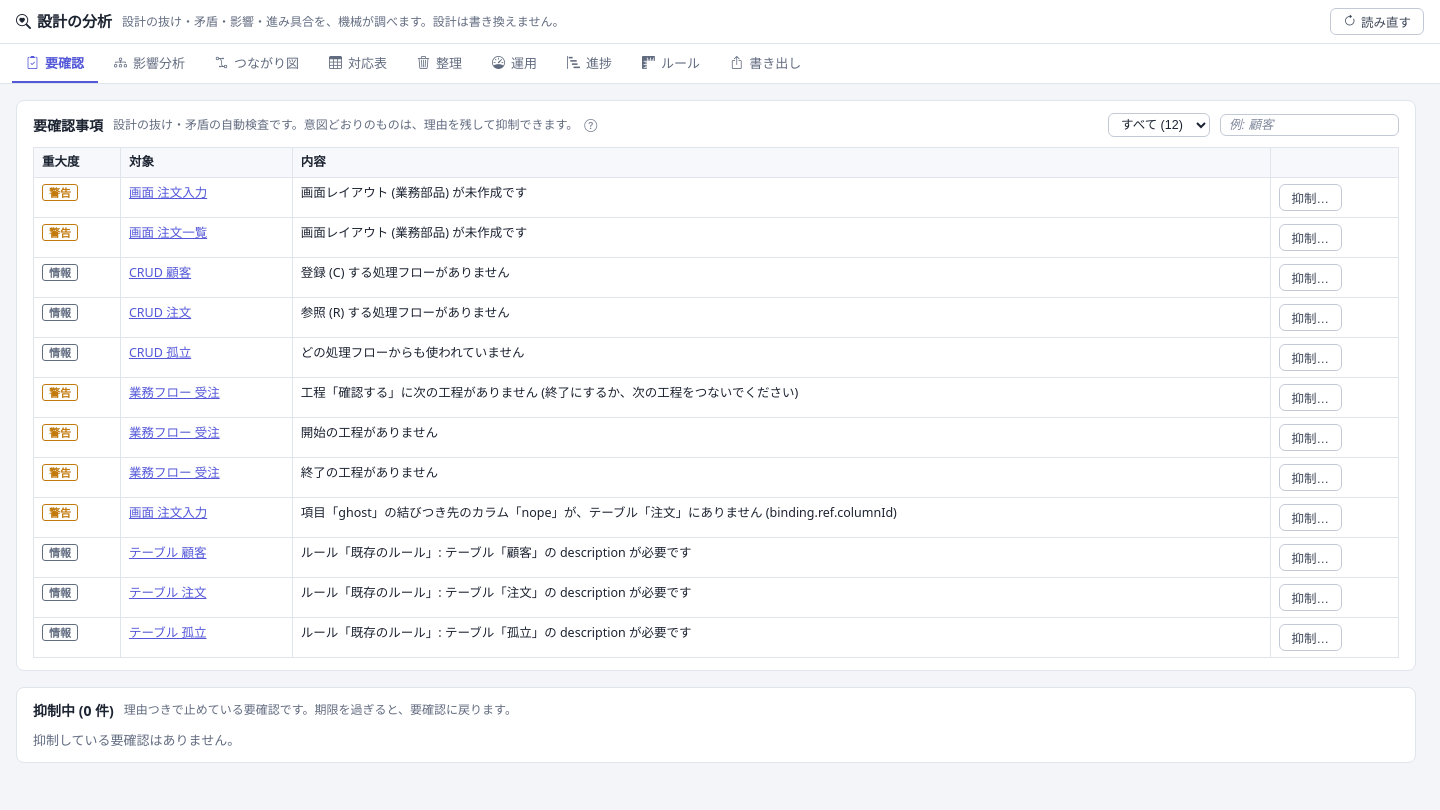
Scenario: ルール › 保存済みのルールがあれば、最初から一覧に出る
What coordinates should you click on to do the following:
click the tab "ルール"
I would click on:
 (671, 64)
Its box is [628,44,714,83].
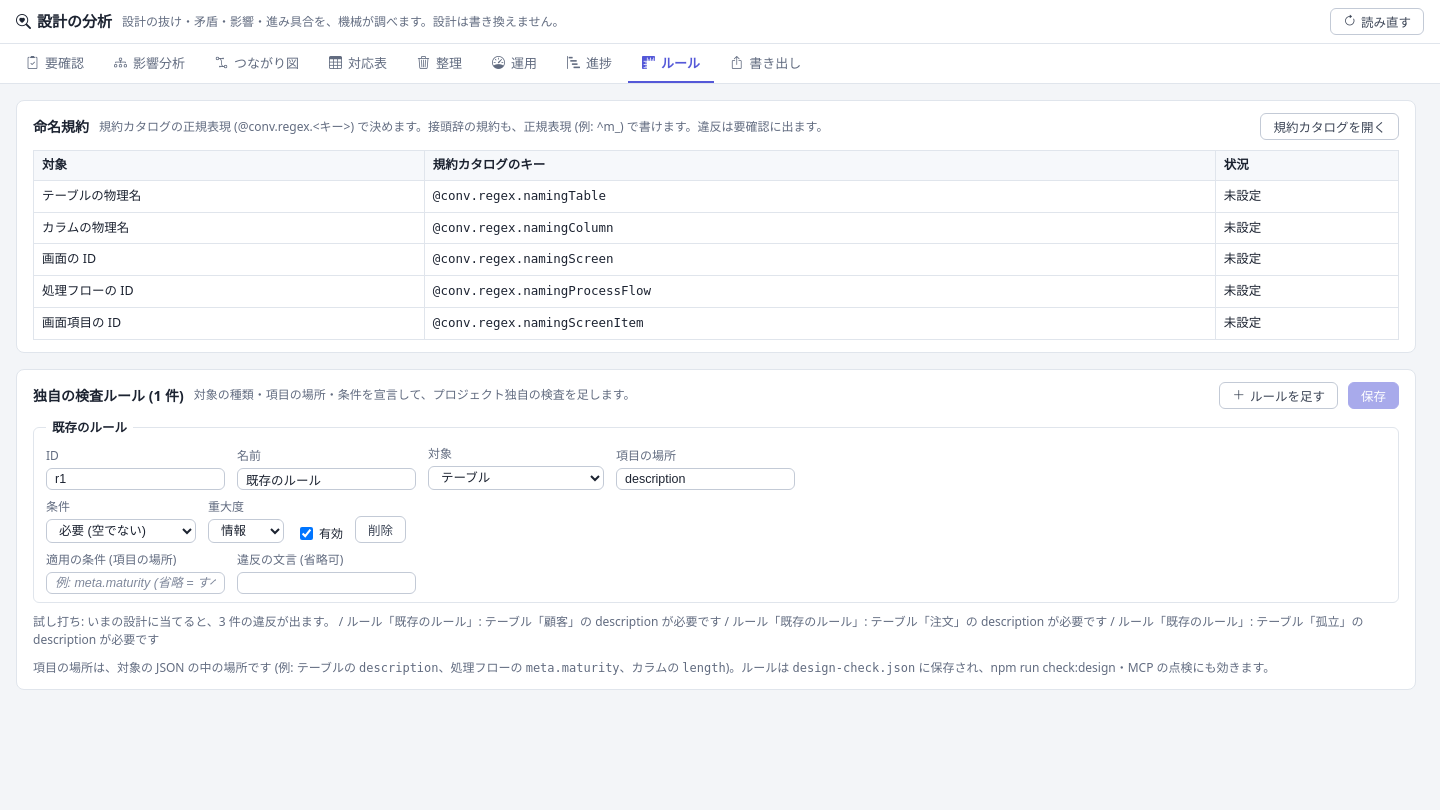
Check: the field with test id "an-rule-name" holds "既存のルール", box [237,468,416,490]
